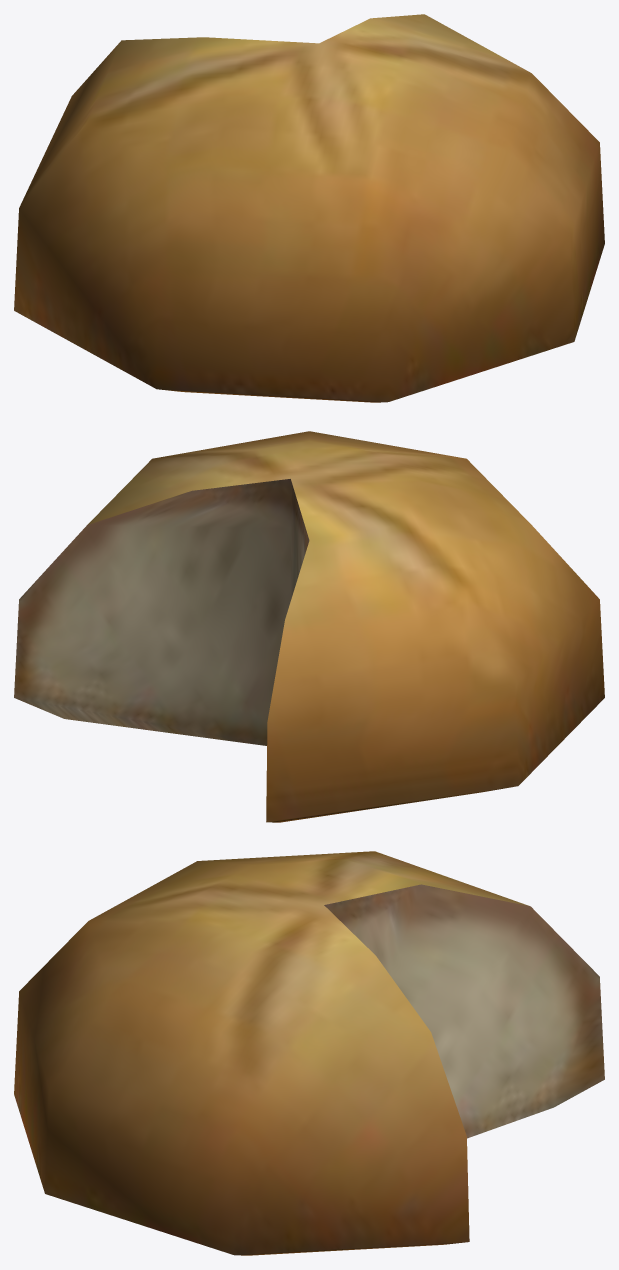
File: SM_loaf_01.gltf
3 views of the same model, one above another, from view 1: azimuth 30°, elevation 25°; view 2: azimuth 150°, elevation 25°; view 3: azimuth 270°, elevation 25° (orthographic). The views are drawn at different scales.
Visible parts, largest first — view 1: SM_loaf_01; view 2: SM_loaf_01; view 3: SM_loaf_01.
Boxes of the visible parts, left/top/right/bottom form: SM_loaf_01: left=14, top=14, right=604, bottom=402; SM_loaf_01: left=14, top=431, right=604, bottom=822; SM_loaf_01: left=14, top=851, right=604, bottom=1255.
Bounding box in the file's own units: 0.4204 × 0.2198 × 0.4138.
1 material, 1 textured.
